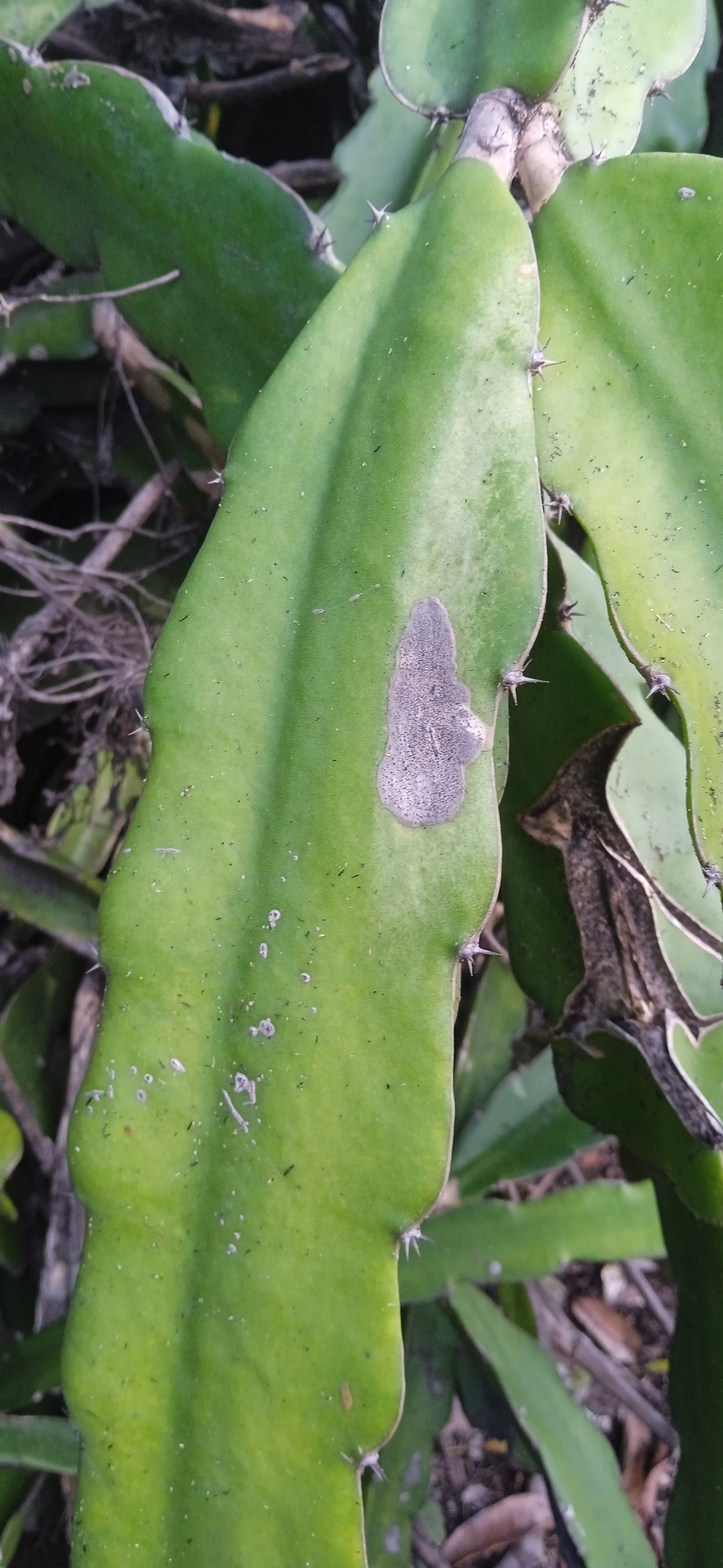stemcanker: (53, 144, 548, 1568)
